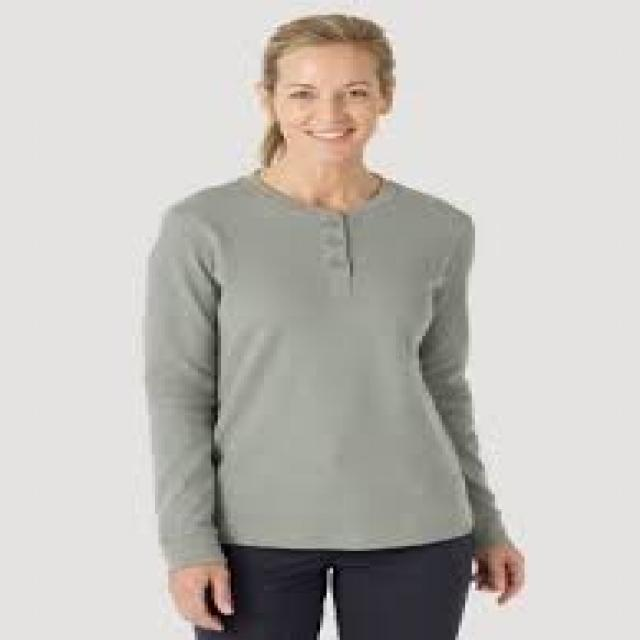plain: (125, 163, 532, 569)
